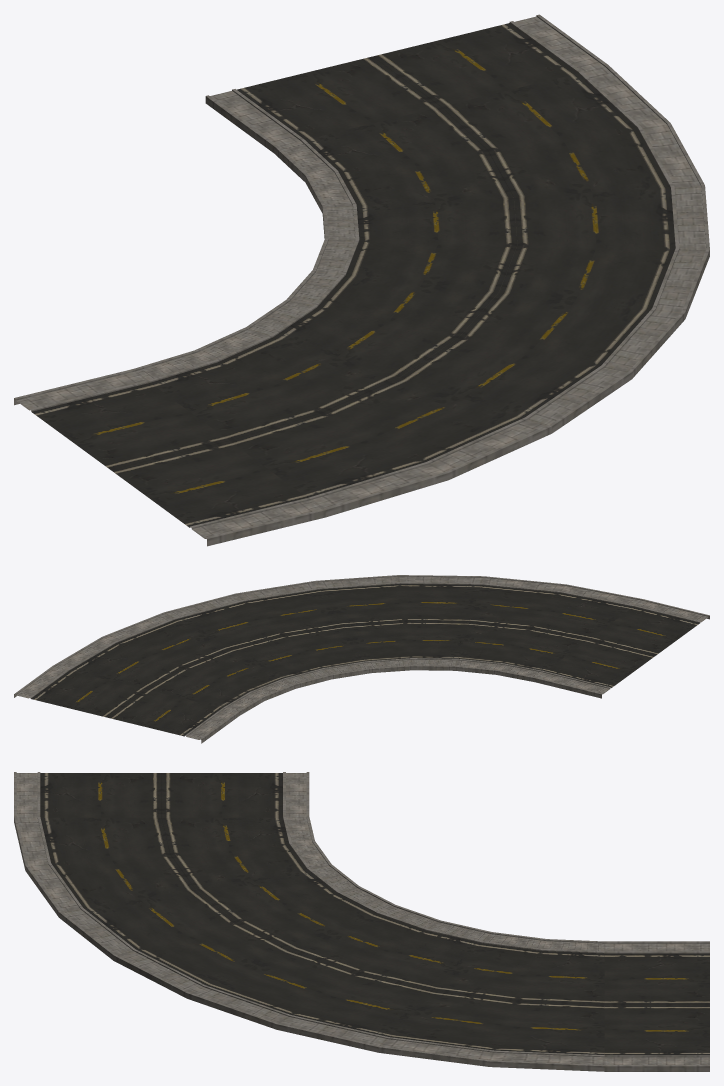
Rendered from RoadTurnDouble.obj.
3 renders of one model, top to bottom at view 1: azimuth 30°, elevation 25°; view 2: azimuth 150°, elevation 25°; view 3: azimuth 270°, elevation 25°, orthographic. The views are drawn at different scales.
Visible parts, largest first — view 1: 7_Road-Turn-Double; view 2: 7_Road-Turn-Double; view 3: 7_Road-Turn-Double.
Part boxes in pixels (<box>): 7_Road-Turn-Double: <box>14,14,709,546</box>; 7_Road-Turn-Double: <box>14,575,709,743</box>; 7_Road-Turn-Double: <box>14,772,709,1071</box>.
Size of the model in its own units: 2.48 by 0.0219 by 2.48.
Materials: 1 (1 with a texture image).
